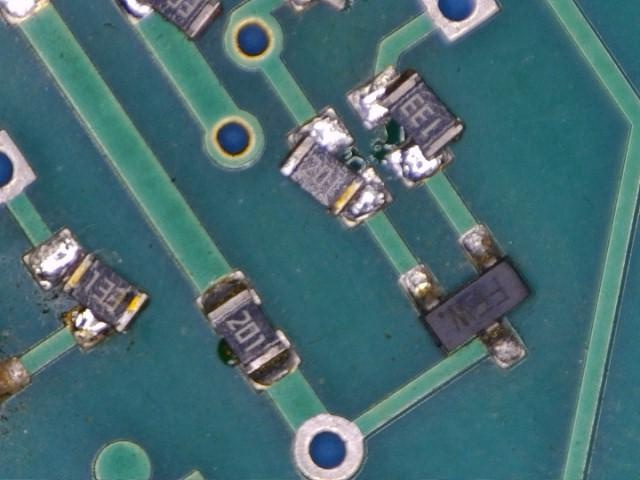pcb_defect: (21, 226, 151, 354), (345, 63, 466, 191), (279, 108, 394, 231), (115, 0, 223, 40)
